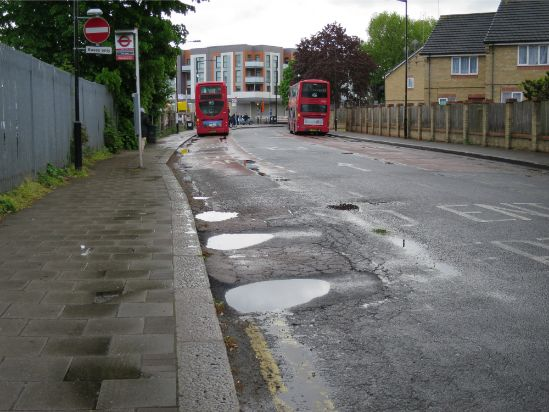pothole: (222, 273, 336, 313), (203, 227, 278, 257), (194, 205, 242, 224)
